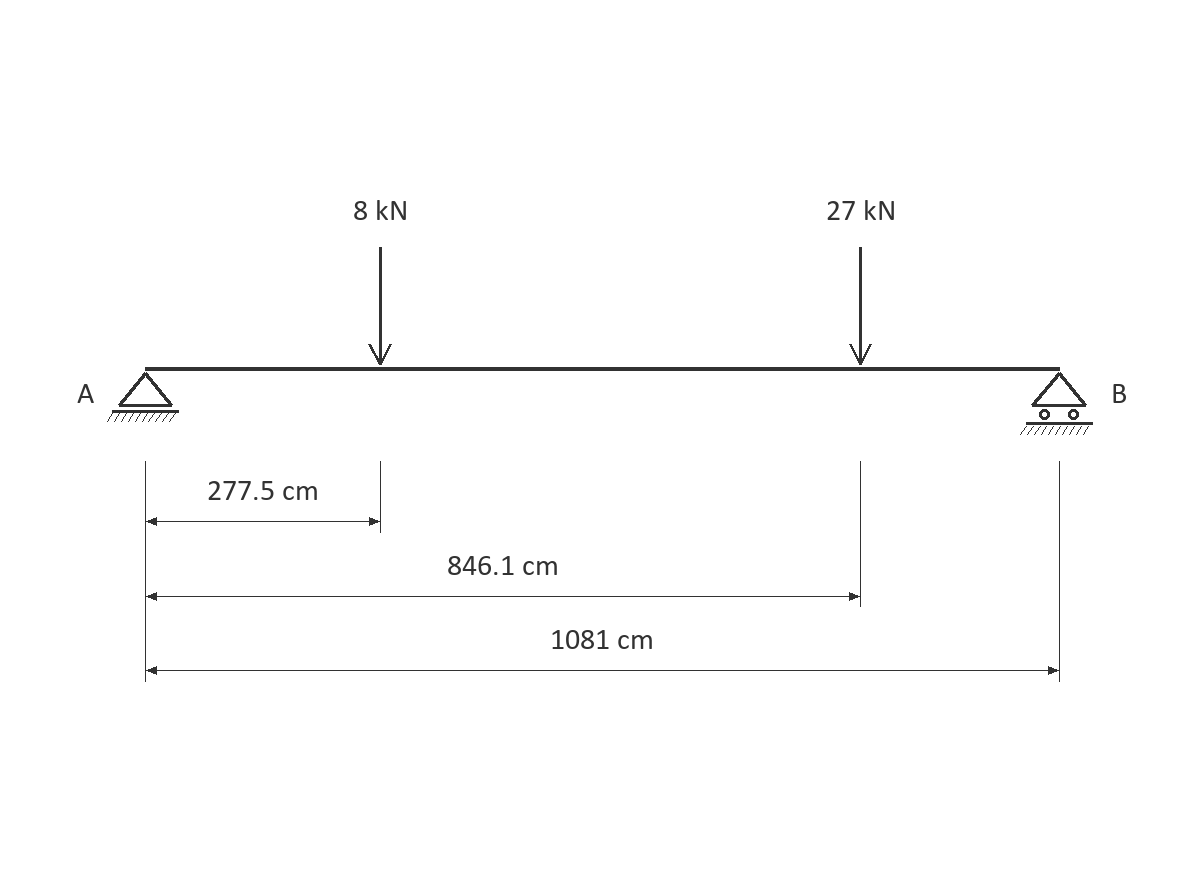pin_support: (107, 372, 179, 422)
point_load: (368, 247, 392, 365), (849, 247, 872, 365)
roller_support: (1020, 372, 1093, 435)
